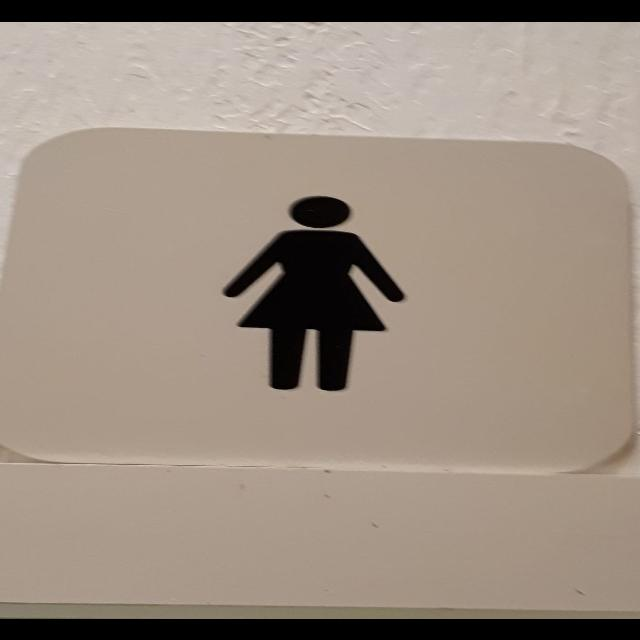womens_restroom: (0, 128, 634, 473)
